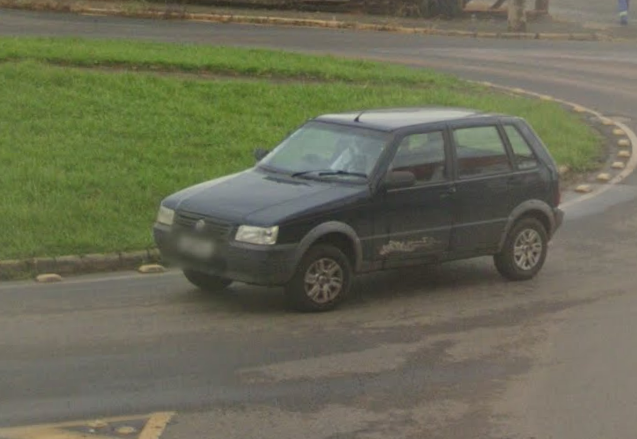car: (147, 99, 568, 318)
